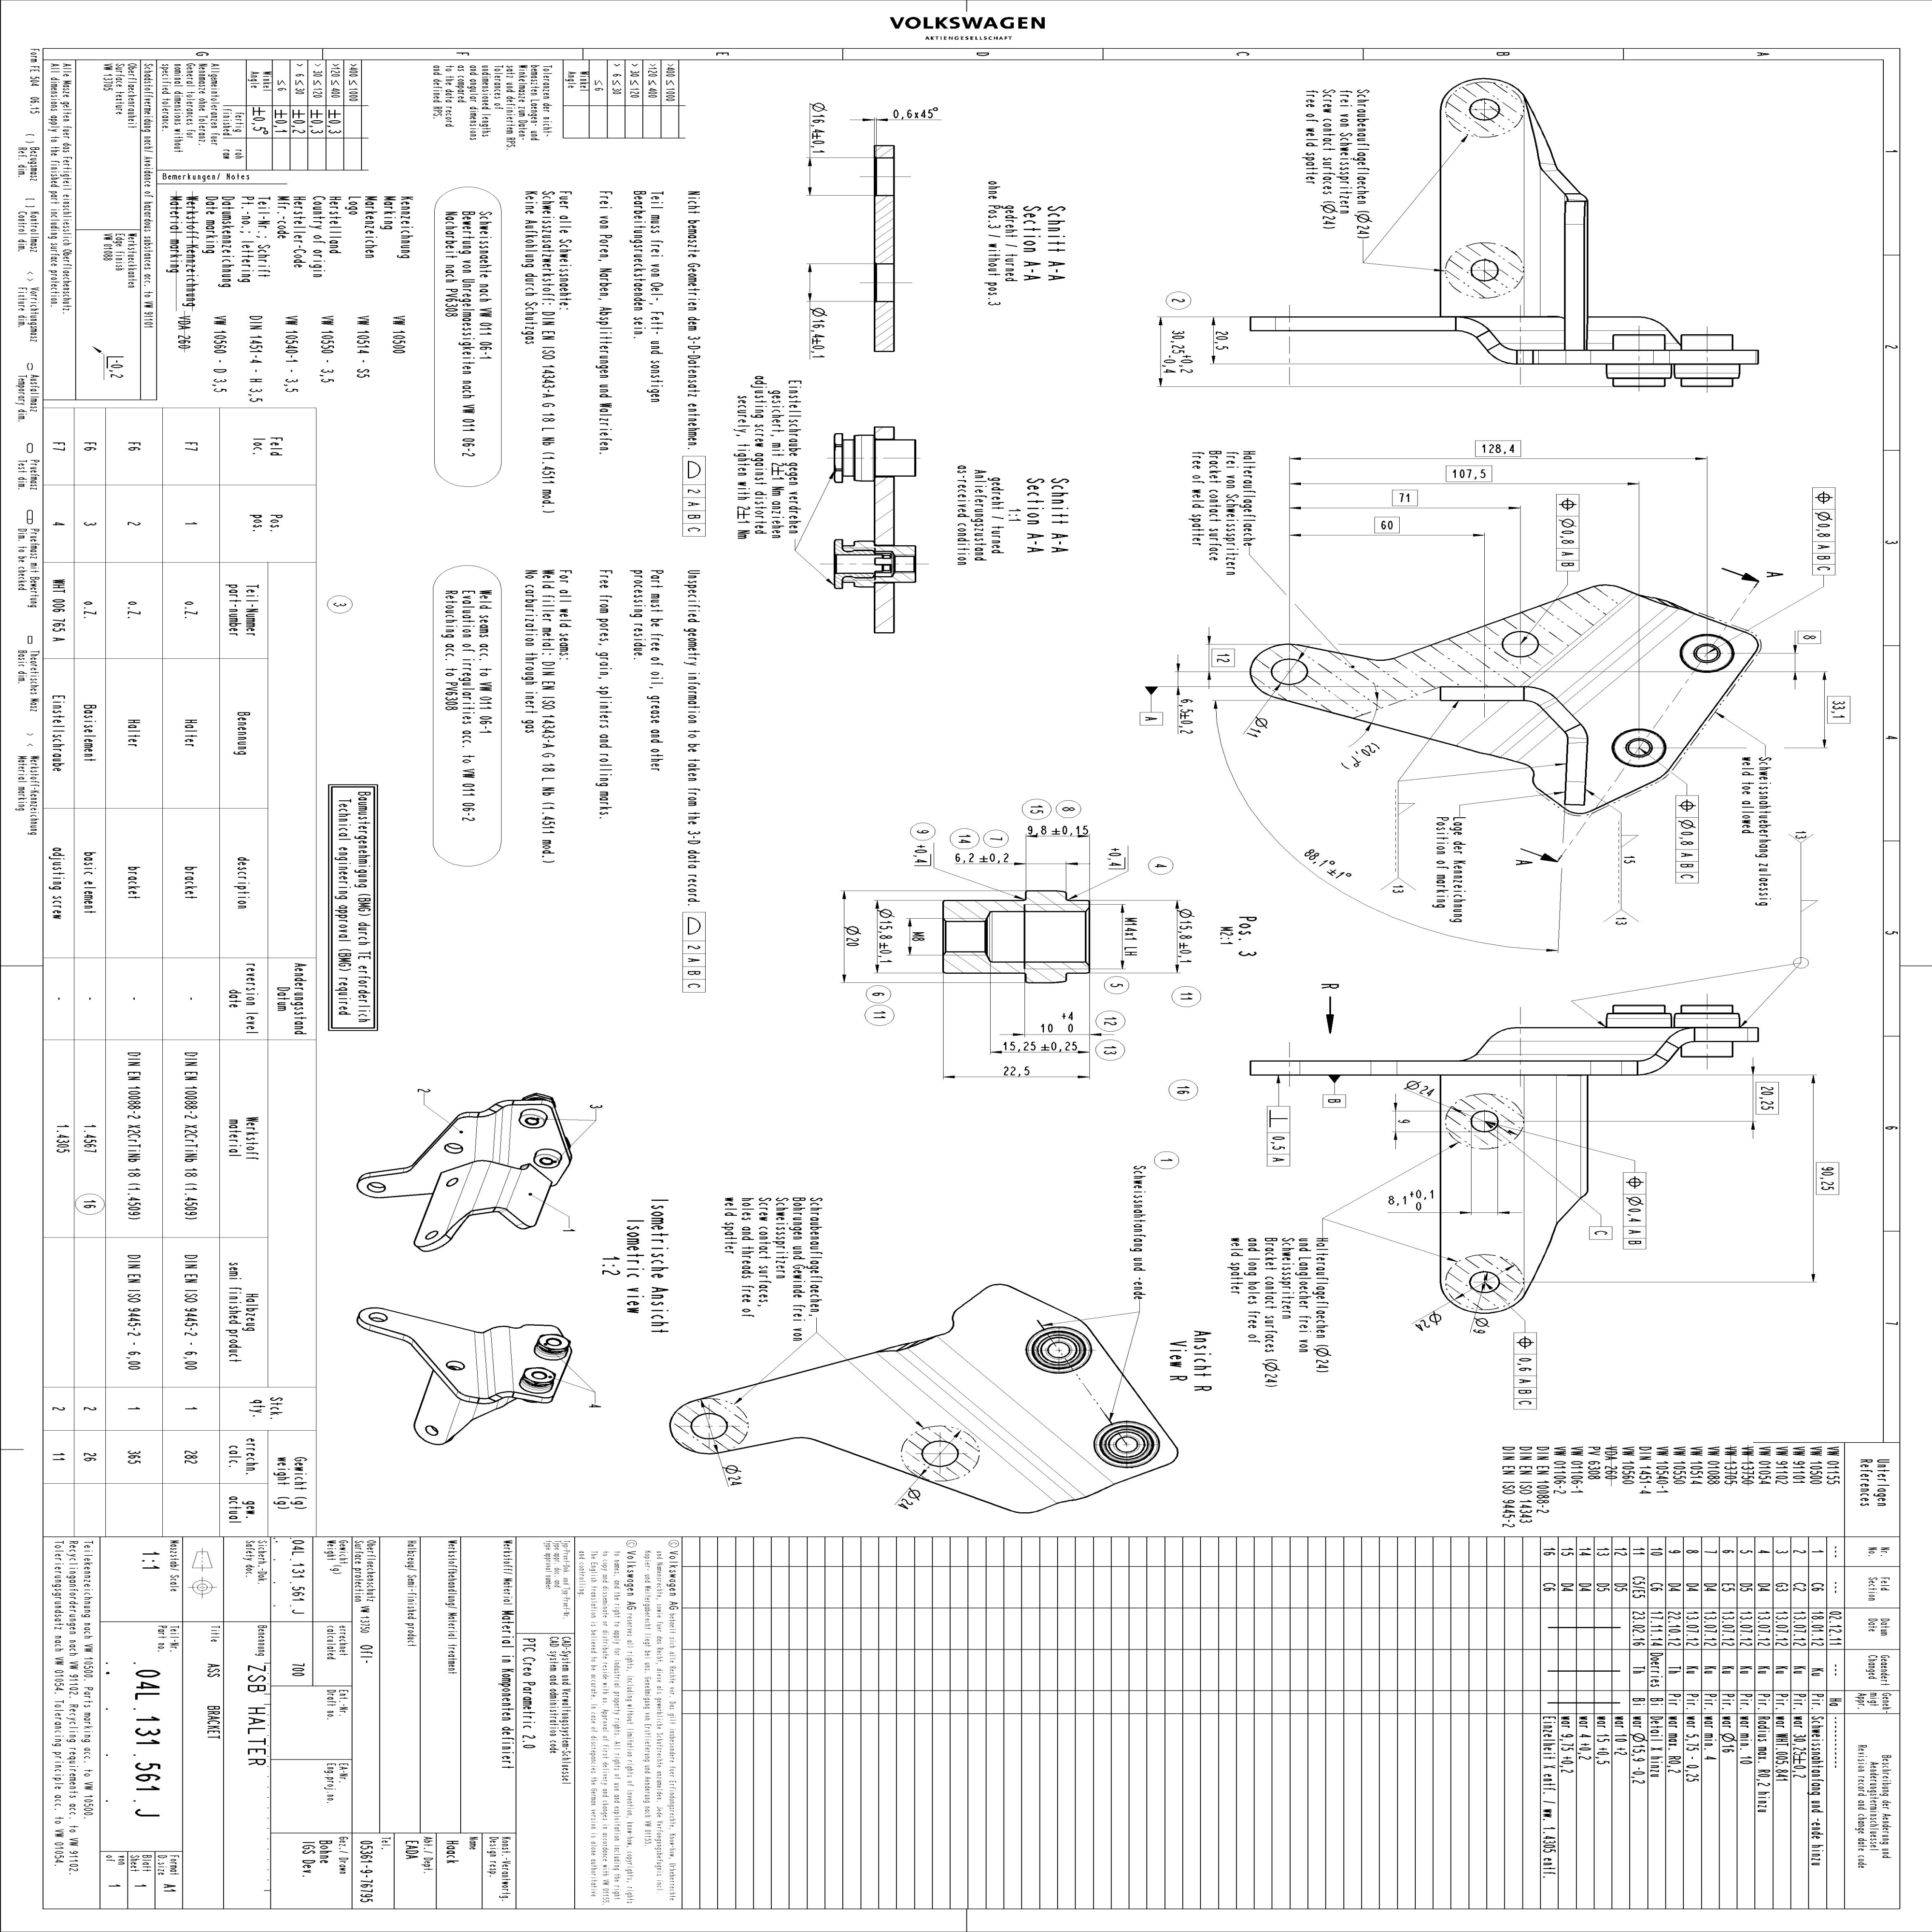BendingEdge: (902, 1322, 1118, 1509), (870, 1336, 1079, 1516), (895, 1341, 1090, 1509), (1523, 579, 1674, 713), (1560, 600, 1698, 720), (1522, 1072, 1559, 1300), (1522, 94, 1543, 320), (1555, 1072, 1583, 1230), (444, 1155, 494, 1242), (1472, 1037, 1672, 1056), (474, 1159, 513, 1219), (488, 1323, 517, 1396), (444, 1396, 479, 1449), (494, 1164, 524, 1214), (472, 1109, 499, 1164), (481, 1329, 499, 1399), (472, 1330, 490, 1401), (471, 1392, 501, 1430), (499, 1102, 515, 1169), (490, 1104, 506, 1166), (1539, 161, 1559, 173)
BendingEdgeCurve: (1453, 315, 1491, 338), (1486, 341, 1520, 366), (1635, 1053, 1668, 1077), (1665, 1026, 1697, 1049)
InnerContour: (1499, 628, 1539, 658), (920, 1438, 959, 1468), (688, 1410, 729, 1438), (1269, 658, 1309, 685), (1467, 96, 1500, 120), (1467, 1270, 1502, 1293), (1470, 257, 1500, 283), (1470, 1108, 1499, 1134), (366, 1309, 389, 1323), (444, 1357, 465, 1371), (442, 1141, 464, 1155), (423, 1422, 441, 1438), (364, 1182, 387, 1192), (425, 1230, 439, 1240), (446, 1178, 460, 1187)
ThroughHole: (1610, 725, 1668, 768), (1677, 632, 1736, 674)
